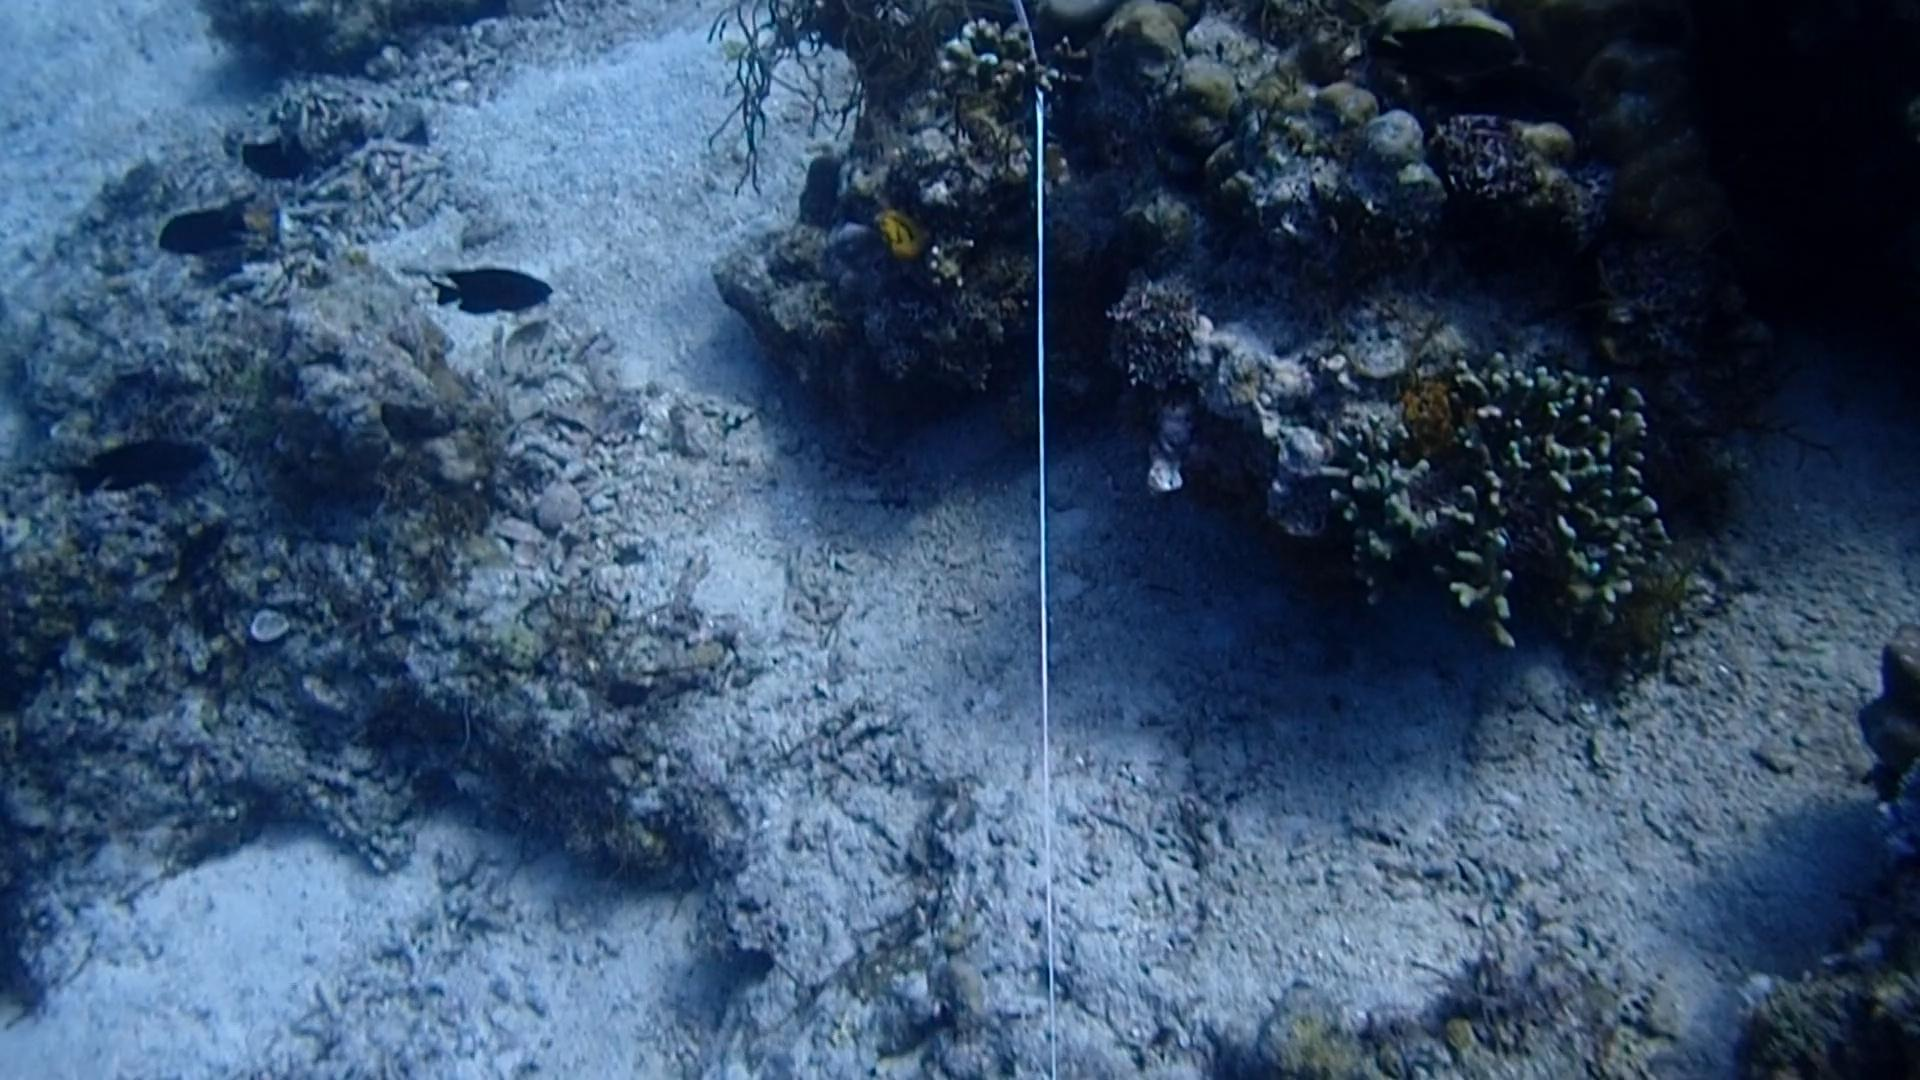Dark Fish: (71, 426, 212, 512), (419, 253, 562, 323), (152, 500, 239, 607), (177, 181, 256, 272), (232, 117, 330, 187)
